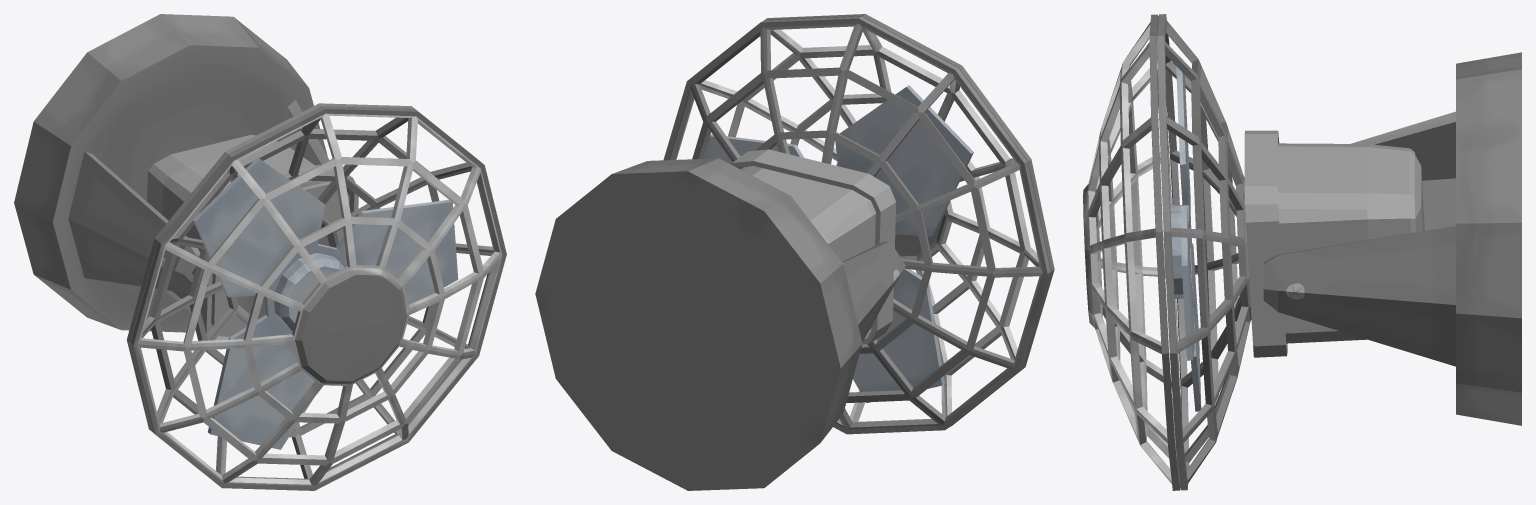
File: ceiling_fan.fbx
3 views of the same model, side by side, from view 1: azimuth 30°, elevation 25°; view 2: azimuth 150°, elevation 25°; view 3: azimuth 270°, elevation 25° (orthographic). The views are drawn at different scales.
Parts seen in each view (by area): view 1: motor.001, motor.003, blades.001; view 2: motor.003, motor.001, blades.001; view 3: motor.001, motor.003, blades.001.
Part boxes in pixels (x1,y1,x2,y2): motor.001: (127,103,506,490); motor.003: (14,14,329,332); blades.001: (193,157,458,449); motor.003: (535,158,905,490); motor.001: (663,14,1054,434); blades.001: (703,85,973,402); motor.001: (1083,14,1424,490); motor.003: (1263,52,1521,425); blades.001: (1163,66,1201,411).
Size of the model in its own units: 200 by 200 by 184.
